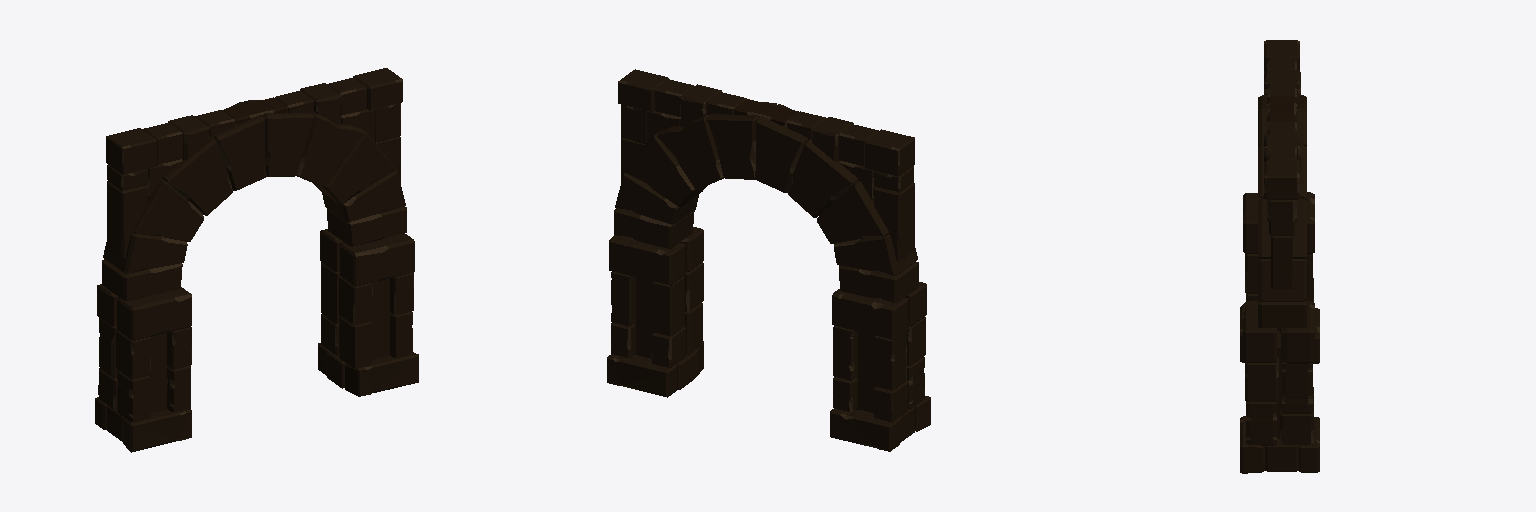
Rendered from Arch.obj.
3 renders of one model, left to right at view 1: azimuth 30°, elevation 25°; view 2: azimuth 150°, elevation 25°; view 3: azimuth 270°, elevation 25°, orthographic.
Parts seen in each view (by area): view 1: Arch_Cube.035; view 2: Arch_Cube.035; view 3: Arch_Cube.035.
Part boxes in pixels (x1,y1,x2,y2): Arch_Cube.035: (95,68,418,452); Arch_Cube.035: (607,69,930,451); Arch_Cube.035: (1240,40,1319,473).
Bounding box in the file's own units: 4.1 × 4.01 × 0.9926.